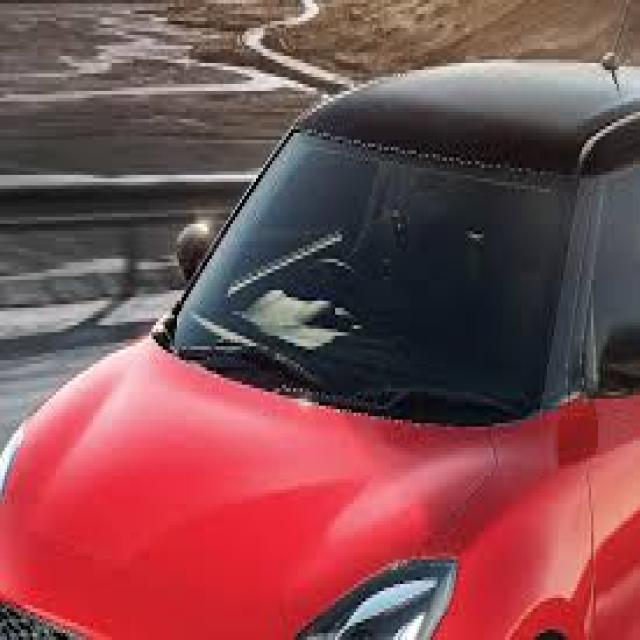Car: (0, 68, 640, 638)
